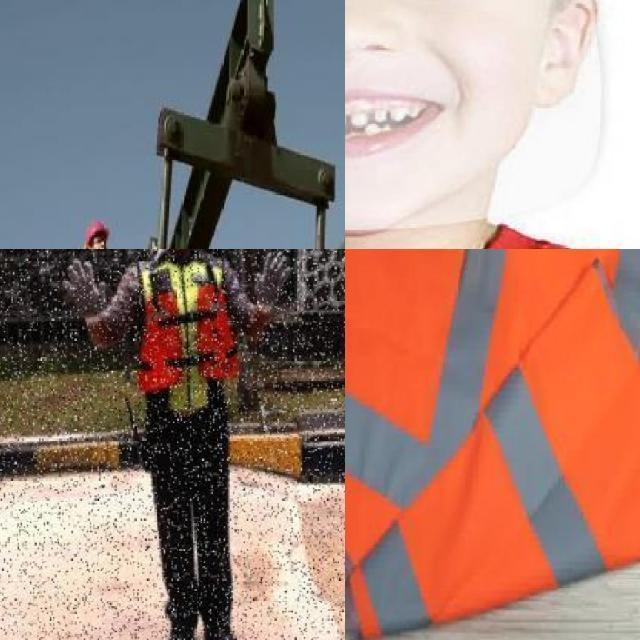apron: (60, 257, 110, 328), (249, 249, 293, 316)
